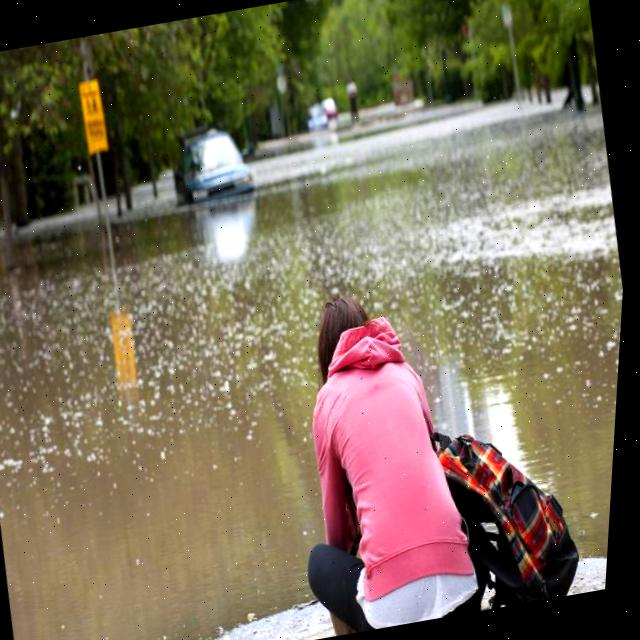civilian: (253, 266, 524, 640)
